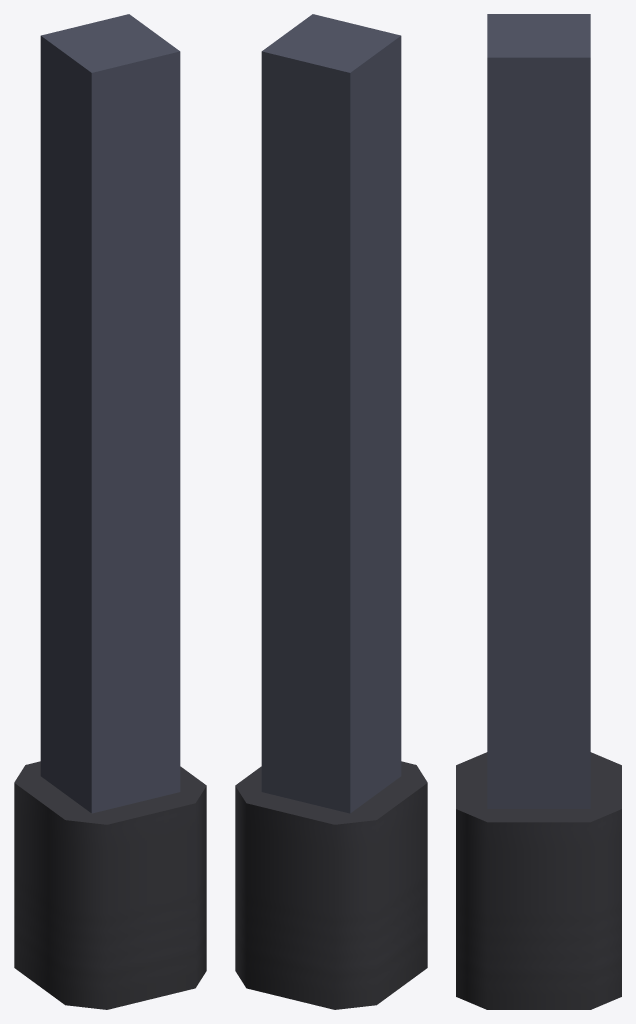
Rendered from pillar-wood.glb.
The picture shows the model from 3 angles, left to right: view 1: azimuth 30°, elevation 25°; view 2: azimuth 150°, elevation 25°; view 3: azimuth 270°, elevation 25°; orthographic projection.
Visible parts, largest first — view 1: pillar-wood; view 2: pillar-wood; view 3: pillar-wood.
Boxes of the visible parts, left/top/right/bottom form: pillar-wood: left=14, top=14, right=206, bottom=1009; pillar-wood: left=235, top=14, right=427, bottom=1009; pillar-wood: left=456, top=14, right=621, bottom=1009.
Size of the model in its own units: 0.16 by 1 by 0.16.
Materials: 1 (1 with a texture image).
